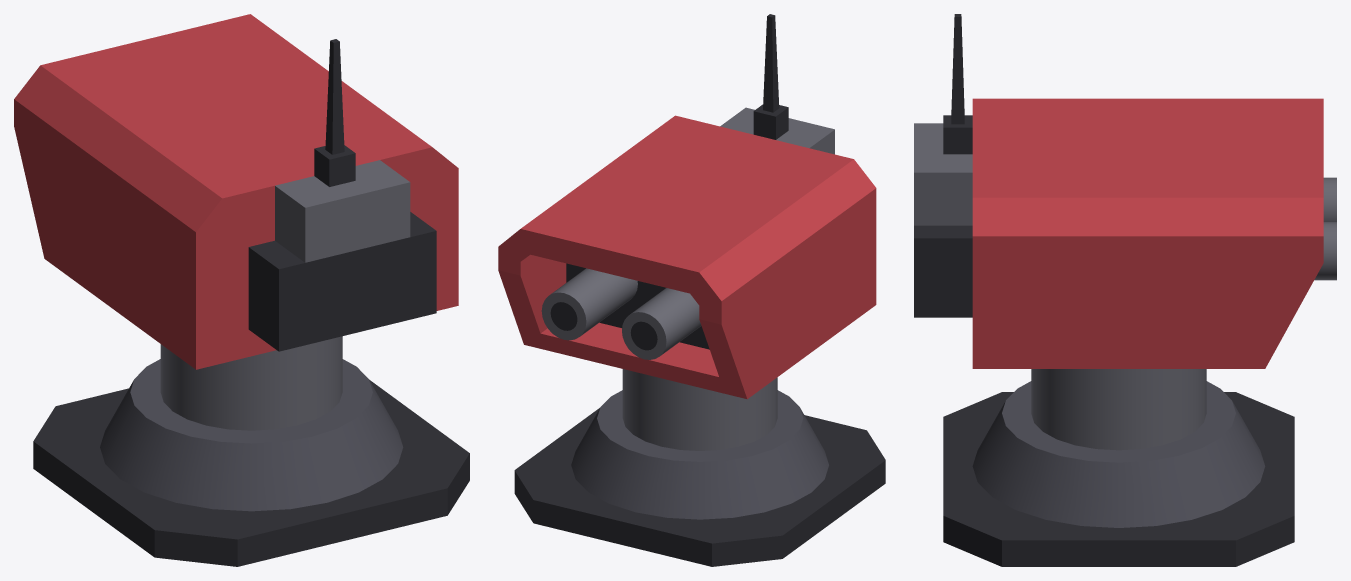
Rendered from turret_single.glb.
3 renders of one model, left to right at view 1: azimuth 30°, elevation 25°; view 2: azimuth 150°, elevation 25°; view 3: azimuth 270°, elevation 25°, orthographic. The views are drawn at different scales.
Parts seen in each view (by area): view 1: head, body; view 2: head, body; view 3: head, body.
Part boxes in pixels (<box>): head: <box>14,14,458,369</box>; body: <box>33,336,469,566</box>; head: <box>498,14,876,399</box>; body: <box>514,369,885,566</box>; head: <box>914,14,1336,368</box>; body: <box>943,369,1294,566</box>.
Bounding box in the file's own units: 0.6 × 0.9 × 0.7224.
